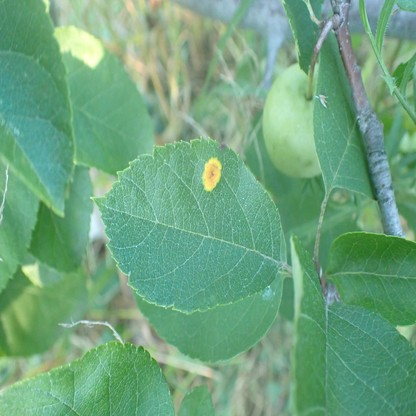rust: (203, 158, 222, 189)
